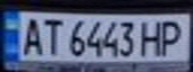3: (118, 18, 139, 57)
4: (84, 18, 106, 57), (103, 18, 121, 57)
6: (63, 17, 87, 57)
A: (18, 15, 45, 56)
H: (136, 17, 166, 56)
P: (157, 17, 190, 56)
T: (36, 16, 66, 56)
